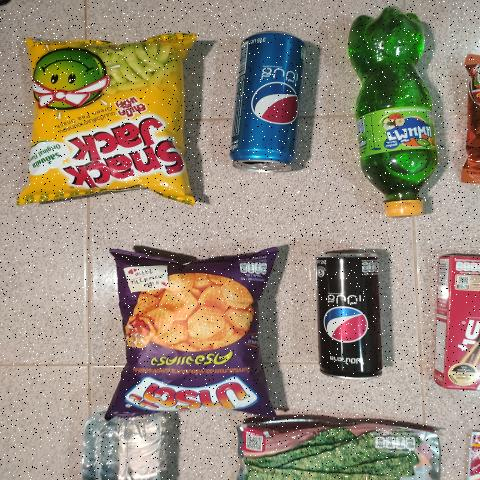fanta_green: (342, 6, 442, 219)
party_purple: (122, 264, 268, 412)
pepsi_black: (313, 242, 385, 382)
pepsi_blue: (224, 32, 305, 177)
snack_jack: (28, 50, 182, 188)
